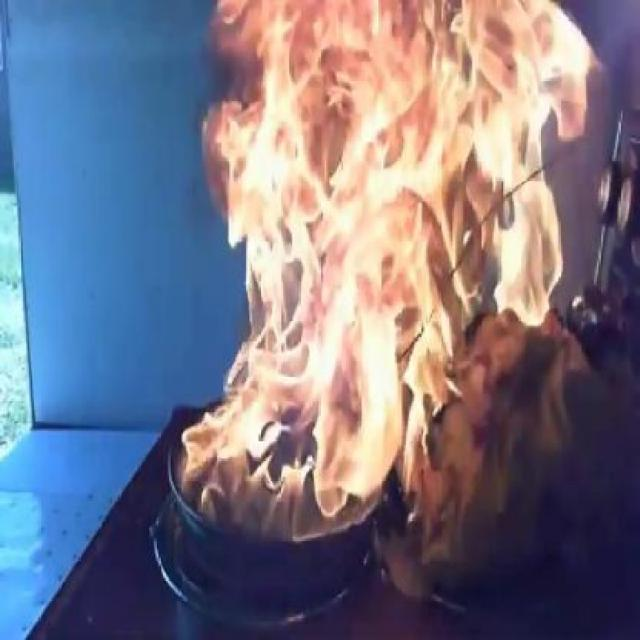fire: (204, 3, 598, 340), (178, 354, 446, 526)
